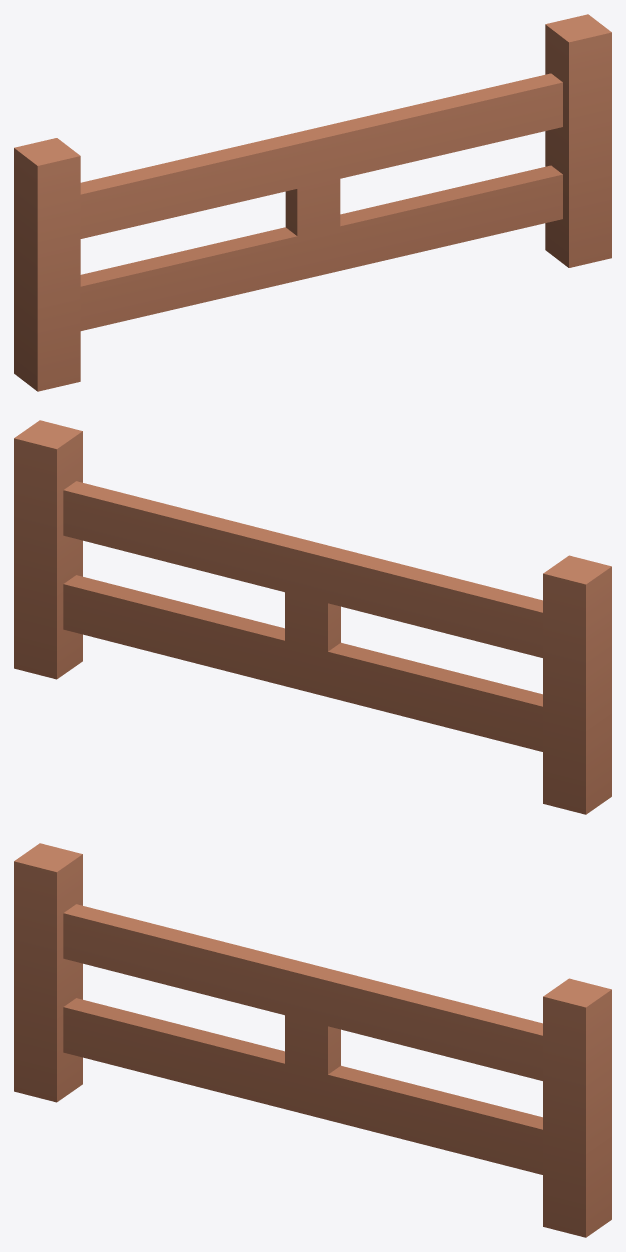
File: fence.005_lev4.glb
3 renders of one model, top to bottom at view 1: azimuth 30°, elevation 25°; view 2: azimuth 150°, elevation 25°; view 3: azimuth 330°, elevation 25°, orthographic.
Parts seen in each view (by area): view 1: fence.005_lev4; view 2: fence.005_lev4; view 3: fence.005_lev4.
Part boxes in pixels (bbox=[...]): fence.005_lev4: bbox=[14, 14, 611, 391]; fence.005_lev4: bbox=[14, 420, 611, 814]; fence.005_lev4: bbox=[14, 843, 611, 1237].
Size of the model in its own units: 18.63 by 7.07 by 1.78.
Materials: 1 (1 with a texture image).
